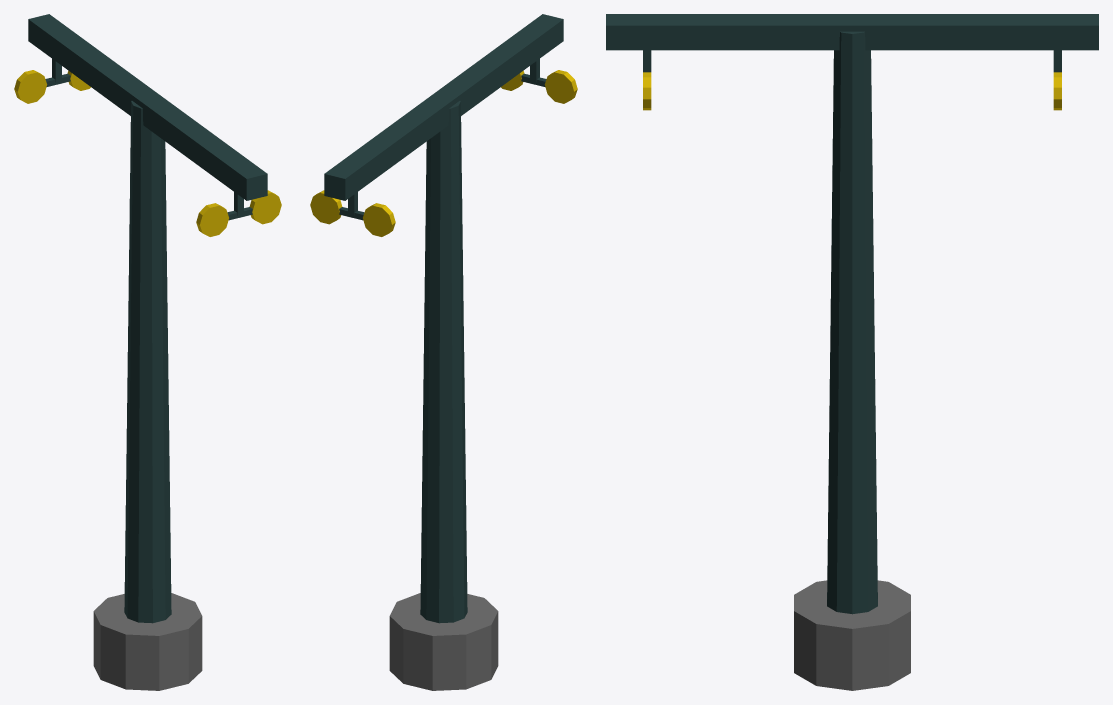
File: tbar_tower.obj
3 views of the same model, side by side, from view 1: azimuth 30°, elevation 25°; view 2: azimuth 150°, elevation 25°; view 3: azimuth 270°, elevation 25° (orthographic). The views are drawn at different scales.
Size of the model in its own units: 0.9 by 5.2 by 3.6.
